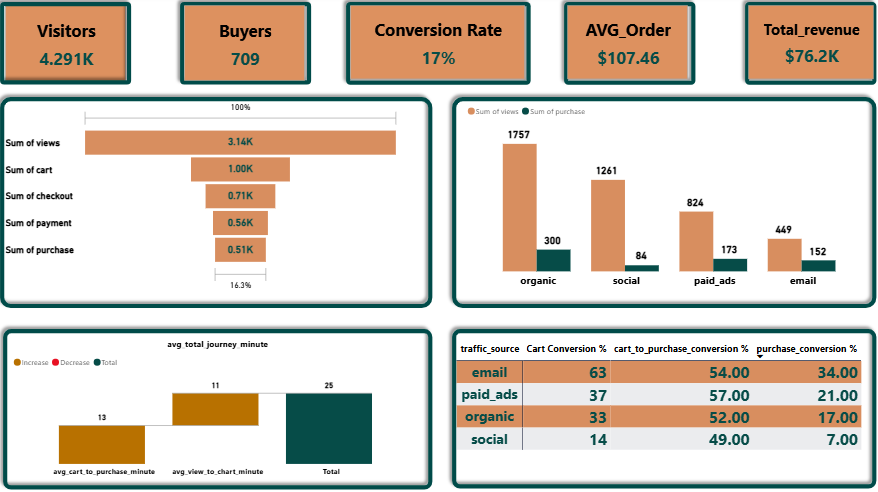

This screenshot's page, from the dashboard's own definition file:
{"tool":"powerbi","page":{"name":"Page 1","canvas":[1280,720],"ordinal":0},"visuals":[{"type":"funnel","fields":{"Y":["Sum(Query1.views)","Sum(Query1.cart)","Sum(Query1.checkout)","Sum(Query1.payment)","Sum(Query1.purchase)"]},"box":[11.4,147.1,577.1,282.9],"z":0},{"type":"cardVisual","title":"visitors","fields":{"Data":["Sum(Query5.total_visitors)"]},"box":[11.2,8.8,183.8,120],"z":1000},{"type":"shape","box":[0,0,206.2,136.2],"z":2000},{"type":"shape","box":[258.8,0,206.2,136.2],"z":3000},{"type":"shape","box":[498.3,0,283.3,136.7],"z":4000},{"type":"shape","box":[811.7,0,206.7,136.7],"z":5000},{"type":"shape","box":[1073.3,0,206.7,136.7],"z":6000},{"type":"cardVisual","title":"visitors","fields":{"Data":["Sum(Query5.total_buyers)"]},"box":[268.8,8.8,183.8,118.8],"z":7000},{"type":"cardVisual","title":"visitors","fields":{"Data":["Sum(Query2.overall_conversion_rate)"]},"box":[508.8,8.8,261.2,116.2],"z":8000},{"type":"cardVisual","title":"visitors","fields":{"Data":["Sum(Query5.avg_order_value)"]},"box":[821.2,8.8,183.8,116.2],"z":9000},{"type":"cardVisual","title":"visitors","fields":{"Data":["Sum(Query5.formatted_revenue)"]},"box":[1081.2,8.8,190,116.2],"z":10000},{"type":"clusteredColumnChart","fields":{"Category":["Query3.traffic_source"],"Y":["Sum(Query3.views)","Sum(Query3.purchase)"]},"box":[676.7,146.7,595,283.3],"z":11000},{"type":"pivotTable","fields":{"Rows":["Query3.traffic_source"],"Values":["Sum(Query3.cart_conversion_rate)","Sum(Query3.cart_to_purchase_conversion_rate)","Sum(Query3.purchase_conversion_rate)"]},"box":[661.4,492.9,602.9,190],"z":13000},{"type":"waterfallChart","title":" avg_total_journey_minute ","fields":{"Y":["Sum(Query4.Value)"],"Category":["Query4.Attribute"]},"box":[22.9,492.9,598.6,210],"z":13001},{"type":"shape","box":[651.4,137.1,628.6,321.4],"z":13002},{"type":"shape","box":[0,137.1,640,321.4],"z":13003},{"type":"shape","box":[651.4,471.4,628.6,247.1],"z":13004},{"type":"shape","box":[4.3,471.4,635.7,248.6],"z":13005}]}

Visuals, with their boxes in screenshot pixels (x1, y1, x2, y2), scaled from the page's 1280x720 canvas onto the 878x492 screenshot:
funnel - Sum(Query1.views) x Sum(Query1.cart): select_region(8, 101, 404, 294)
"visitors" cardVisual: select_region(8, 6, 134, 88)
shape: select_region(0, 0, 141, 93)
shape: select_region(178, 0, 319, 93)
shape: select_region(342, 0, 536, 93)
shape: select_region(557, 0, 699, 93)
shape: select_region(736, 0, 877, 93)
"visitors" cardVisual: select_region(184, 6, 310, 87)
"visitors" cardVisual: select_region(349, 6, 528, 85)
"visitors" cardVisual: select_region(563, 6, 689, 85)
"visitors" cardVisual: select_region(742, 6, 872, 85)
clusteredColumnChart - Query3.traffic_source x Sum(Query3.views): select_region(464, 100, 872, 294)
pivotTable - Query3.traffic_source x Sum(Query3.cart_conversion_rate): select_region(454, 337, 867, 467)
" avg_total_journey_minute " waterfallChart: select_region(16, 337, 426, 480)
shape: select_region(447, 94, 877, 313)
shape: select_region(0, 94, 439, 313)
shape: select_region(447, 322, 877, 491)
shape: select_region(3, 322, 439, 491)
